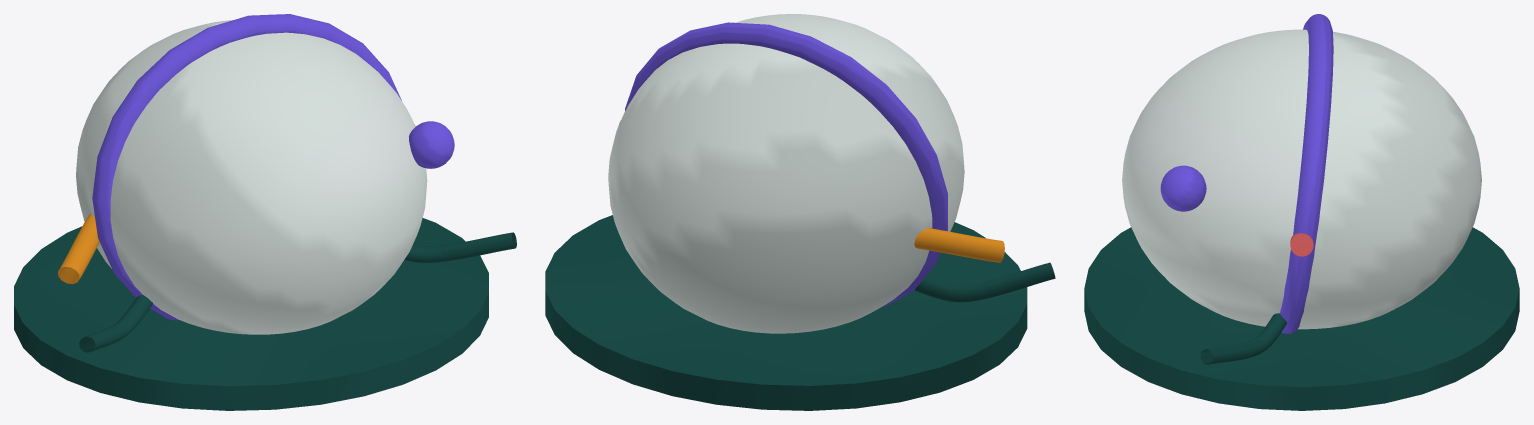
The model's file is 1224_细胞图鉴_细胞质.glb.
3 renders of one model, left to right at view 1: azimuth 30°, elevation 25°; view 2: azimuth 150°, elevation 25°; view 3: azimuth 270°, elevation 25°, orthographic. The views are drawn at different scales.
Visible parts, largest first — view 1: card_1224; view 2: card_1224; view 3: card_1224.
Part boxes in pixels (x1,y1,x2,y2): card_1224: (14, 14, 516, 410); card_1224: (545, 14, 1055, 410); card_1224: (1084, 14, 1519, 410).
Bounding box in the file's own units: 1.56 × 1 × 1.39.
